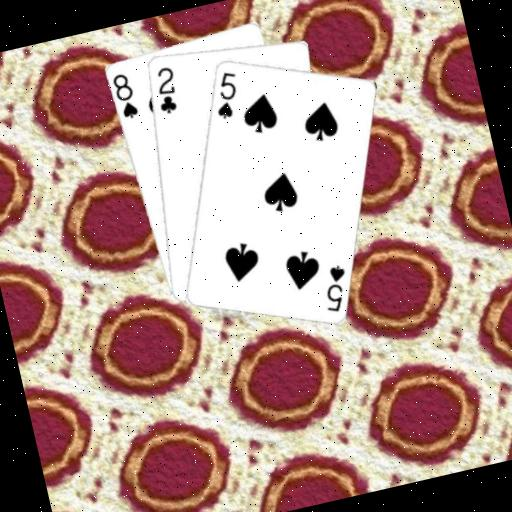2C: (147, 62, 183, 117)
5S: (205, 66, 246, 122), (314, 260, 355, 316)
8S: (108, 69, 140, 123)
